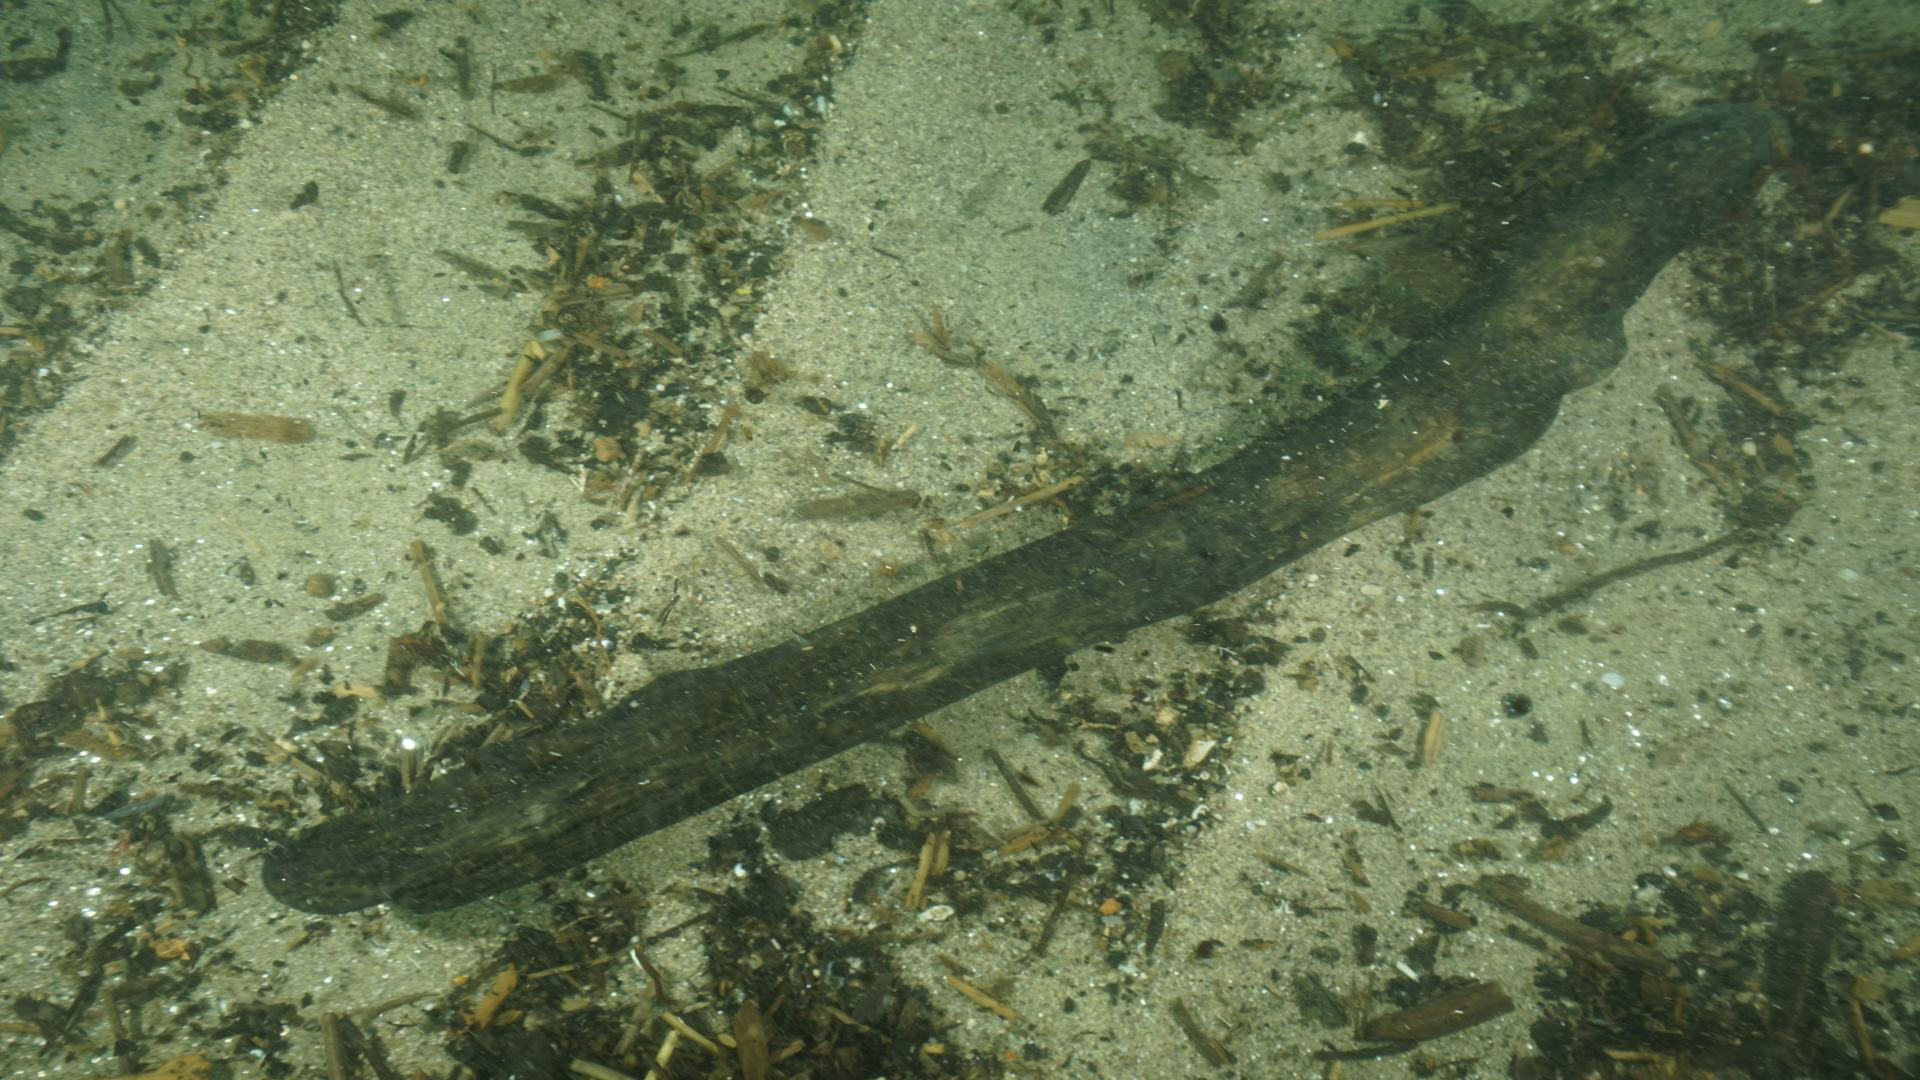wood: (258, 99, 1793, 916)
